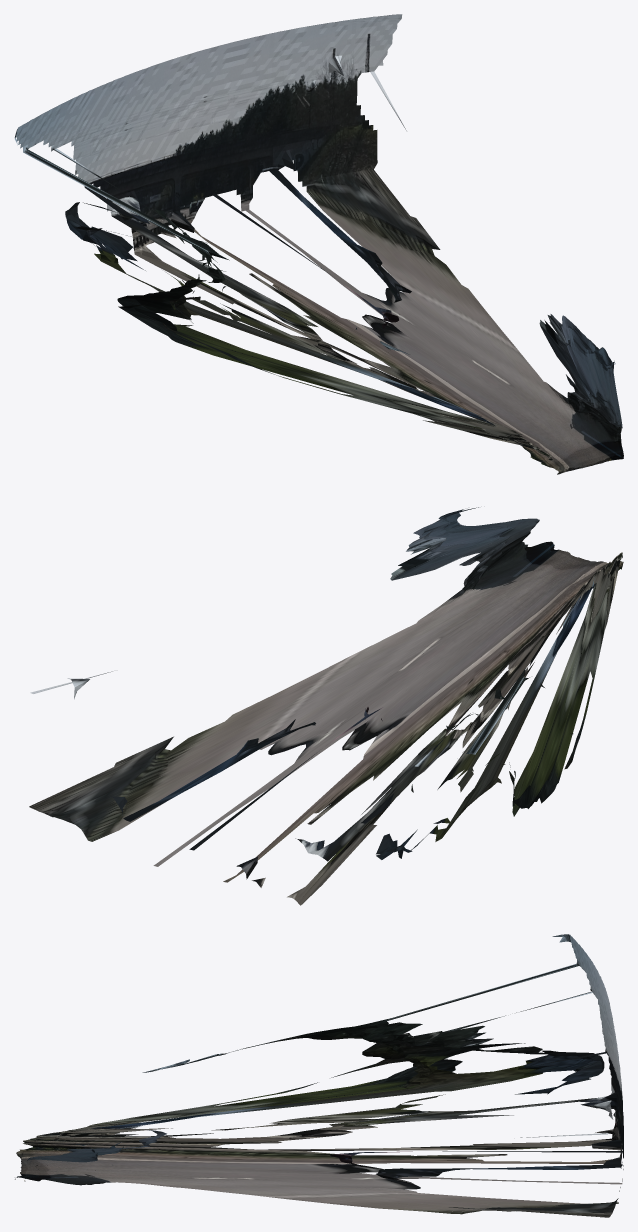
3 views of the same model, one above another, from view 1: azimuth 30°, elevation 25°; view 2: azimuth 150°, elevation 25°; view 3: azimuth 270°, elevation 25° (orthographic). The views are drawn at different scales.
Parts seen in each view (by area): view 1: defaultobject; view 2: defaultobject; view 3: defaultobject.
Boxes of the visible parts, <box> form: defaultobject: <box>14,14,623,474</box>; defaultobject: <box>29,507,623,905</box>; defaultobject: <box>15,934,623,1217</box>.
Bounding box in the file's own units: 29.03 × 12.79 × 44.78.
Materials: 1 (1 with a texture image).
